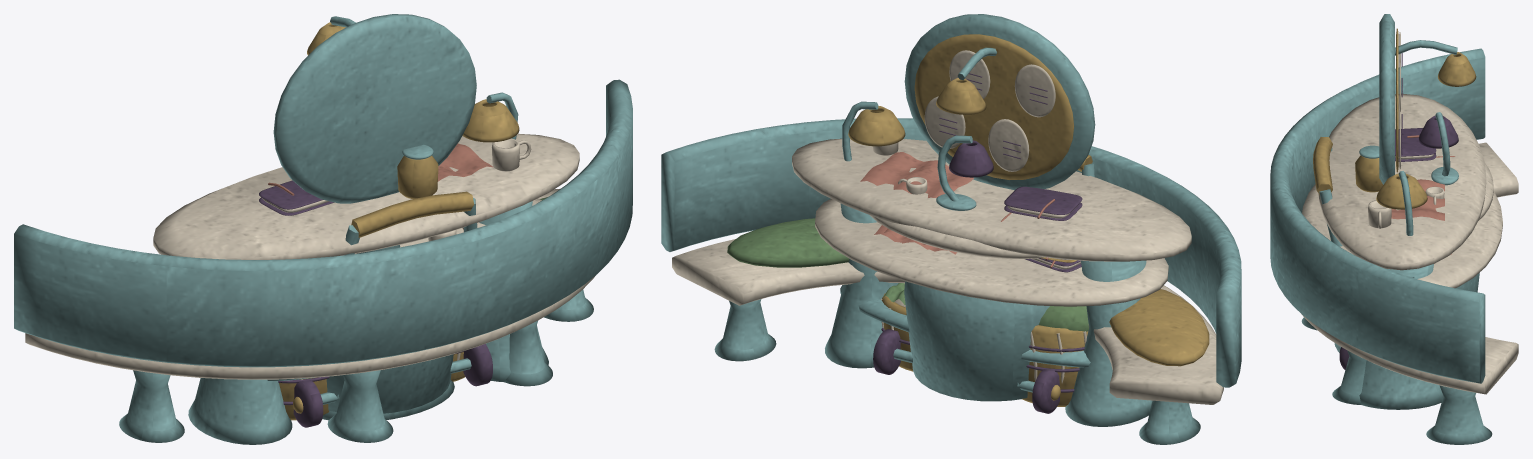
File: commons_lived_in_kit_v1.glb
3 renders of one model, left to right at view 1: azimuth 30°, elevation 25°; view 2: azimuth 150°, elevation 25°; view 3: azimuth 270°, elevation 25°, orthographic. The views are drawn at different scales.
Parts seen in each view (by area): view 1: civic_bench__grown_back, notice_read_station__notice_arch, arcade_counter__counter_top, civic_bench, civic_bench__seat, arcade_counter__counter_leg_neg1, planter_large__bowl, maintenance_cart, maintenance_cart__push_grip, communal_table__table_lamp_shade, arcade_counter__storage_jar, arcade_counter (+5 smaller); view 2: civic_bench__grown_back, arcade_counter__counter_top, civic_bench, communal_table__table_top, planter_large__bowl, civic_bench__seat, notice_read_station__notice_inset, notice_read_station__notice_arch, arcade_counter__counter_leg_neg1, notice_read_station, arcade_counter, storage_baskets (+11 smaller); view 3: civic_bench__grown_back, arcade_counter__counter_top, civic_bench__seat, communal_table__table_top, civic_bench, arcade_counter, notice_read_station__notice_arch, communal_table__table_lamp_shade, notice_read_station__reading_fixture_shade, maintenance_cart__push_grip, arcade_counter__counter_cloth, arcade_counter__storage_jar (+11 smaller).
Boxes of the visible parts, x1,y1,x2,y2 form: civic_bench__grown_back: (14,79,632,367); notice_read_station__notice_arch: (273,14,476,203); arcade_counter__counter_top: (153,133,579,259); civic_bench: (119,197,593,442); civic_bench__seat: (25,188,595,379); arcade_counter__counter_leg_neg1: (188,378,292,444); planter_large__bowl: (326,354,453,413); maintenance_cart: (293,198,492,427); maintenance_cart__push_grip: (351,191,474,237); communal_table__table_lamp_shade: (462,99,519,142); arcade_counter__storage_jar: (397,155,438,198); arcade_counter: (479,201,548,381); civic_bench__grown_back: (661,118,1241,387); arcade_counter__counter_top: (792,138,1191,261); civic_bench: (714,218,1209,444); communal_table__table_top: (815,199,1168,306); planter_large__bowl: (904,281,1049,401); civic_bench__seat: (672,239,1223,404); notice_read_station__notice_inset: (914,34,1074,179); notice_read_station__notice_arch: (904,14,1095,190); arcade_counter__counter_leg_neg1: (1065,260,1152,426); notice_read_station: (924,50,1055,171); arcade_counter: (825,203,898,368); storage_baskets: (880,283,1088,406); civic_bench__grown_back: (1270,48,1485,383); arcade_counter__counter_top: (1318,93,1486,270); civic_bench__seat: (1301,142,1518,394); communal_table__table_top: (1302,184,1502,288); civic_bench: (1301,317,1492,444); arcade_counter: (1359,264,1443,409); notice_read_station__notice_arch: (1379,14,1394,184); communal_table__table_lamp_shade: (1376,173,1427,209); notice_read_station__reading_fixture_shade: (1437,52,1476,86); maintenance_cart__push_grip: (1313,137,1332,194); arcade_counter__counter_cloth: (1391,179,1444,220); arcade_counter__storage_jar: (1355,155,1382,192).
Bounding box in the file's own units: 3.25 × 1.9 × 1.35.
Materials: 1 (1 with a texture image).
